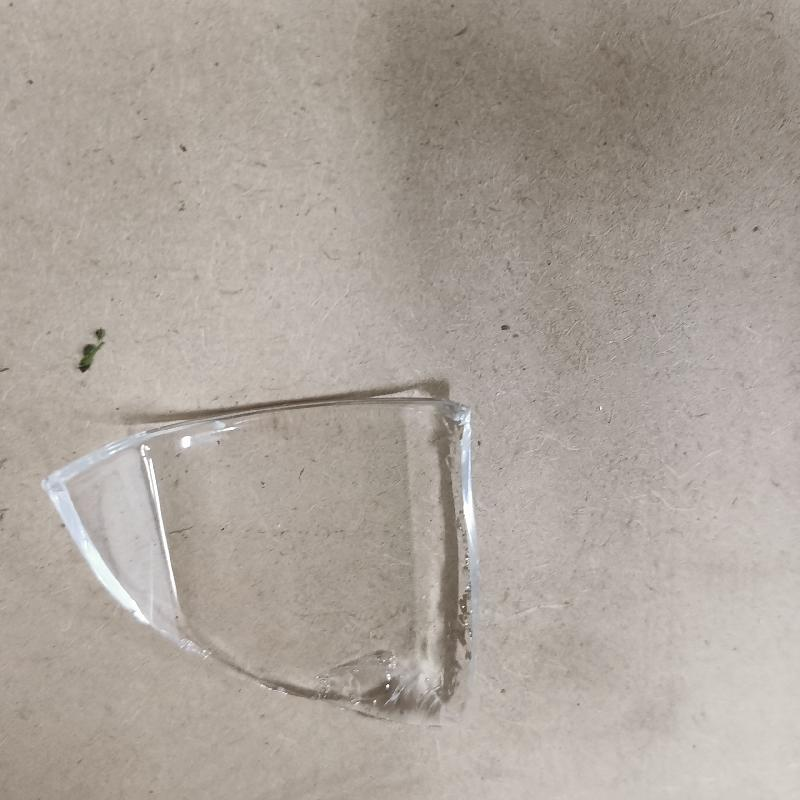glass: (37, 390, 478, 722)
